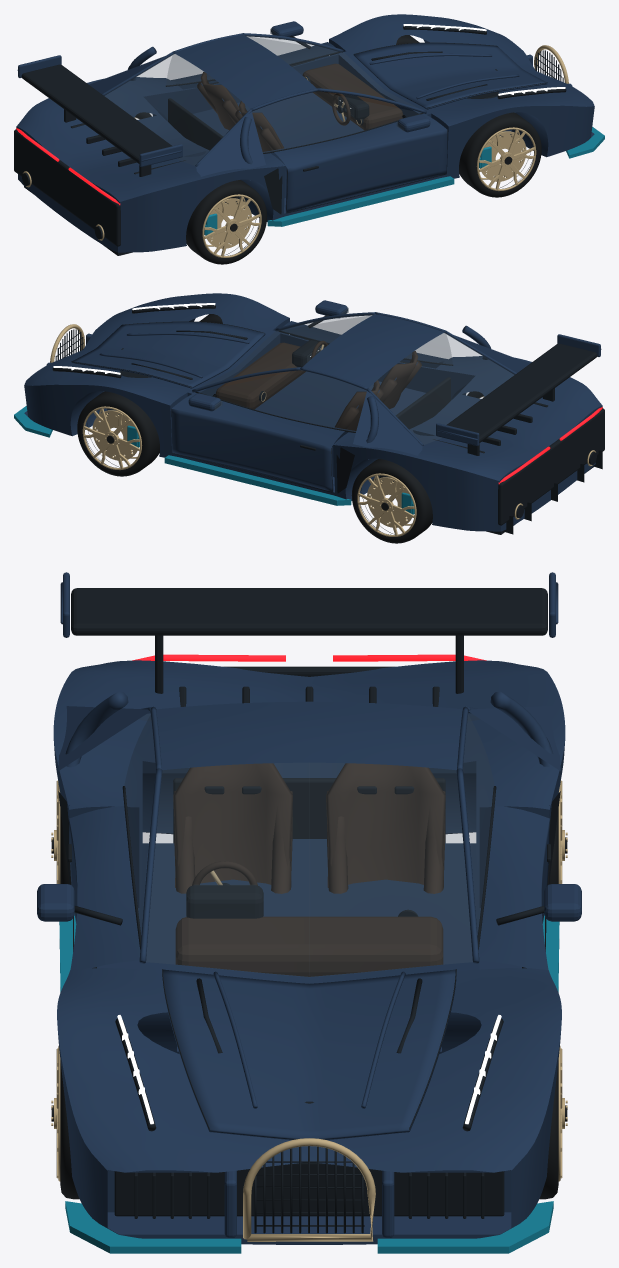
The model's file is car_midnight.glb.
The picture shows the model from 3 angles, top to bottom: view 1: azimuth 30°, elevation 25°; view 2: azimuth 150°, elevation 25°; view 3: azimuth 270°, elevation 25°; orthographic projection. The views are drawn at different scales.
Parts seen in each view (by area): view 1: CarBody, Door_Right, Hood, RearWing, Wheel_Front_Right, Wheel_Rear_Right, Door_Left; view 2: CarBody, Door_Left, Hood, RearWing, Wheel_Front_Left, Wheel_Rear_Left, Door_Right; view 3: CarBody, Hood, RearWing, Door_Left, Door_Right, Wheel_Front_Left, Wheel_Front_Right, Wheel_Rear_Left, Wheel_Rear_Right.
Part boxes in pixels (x1,y1,x2,y2): CarBody: [14, 14, 604, 255]; Door_Right: [252, 91, 447, 213]; Hood: [353, 42, 547, 109]; RearWing: [17, 55, 182, 176]; Wheel_Front_Right: [459, 112, 541, 197]; Wheel_Rear_Right: [186, 180, 267, 264]; Door_Left: [165, 21, 339, 89]; CarBody: [14, 293, 604, 534]; Door_Left: [171, 370, 366, 492]; Hood: [71, 321, 265, 388]; RearWing: [436, 334, 601, 455]; Wheel_Front_Left: [77, 391, 159, 476]; Wheel_Rear_Left: [351, 459, 432, 543]; Door_Right: [279, 300, 453, 368]; CarBody: [53, 654, 565, 1253]; Hood: [162, 969, 456, 1139]; RearWing: [60, 572, 558, 693]; Door_Left: [463, 715, 581, 970]; Door_Right: [37, 715, 155, 970]; Wheel_Front_Left: [539, 1046, 567, 1199]; Wheel_Front_Right: [51, 1046, 79, 1199]; Wheel_Rear_Left: [547, 780, 567, 884]; Wheel_Rear_Right: [51, 780, 71, 884].
Size of the model in its own units: 4.86 by 1.27 by 2.32.
